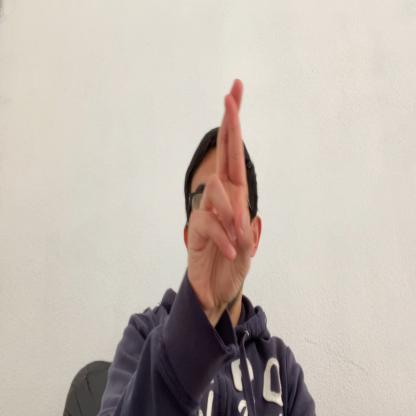R: (189, 79, 253, 316)
